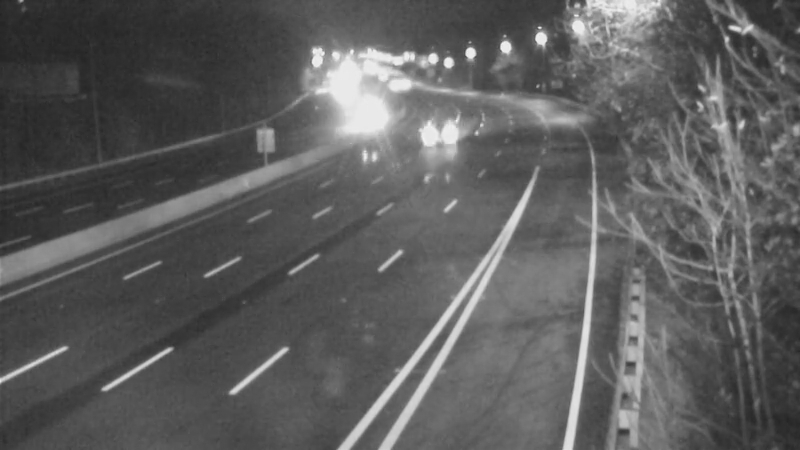vehicle: (414, 107, 464, 157), (349, 93, 399, 143)
